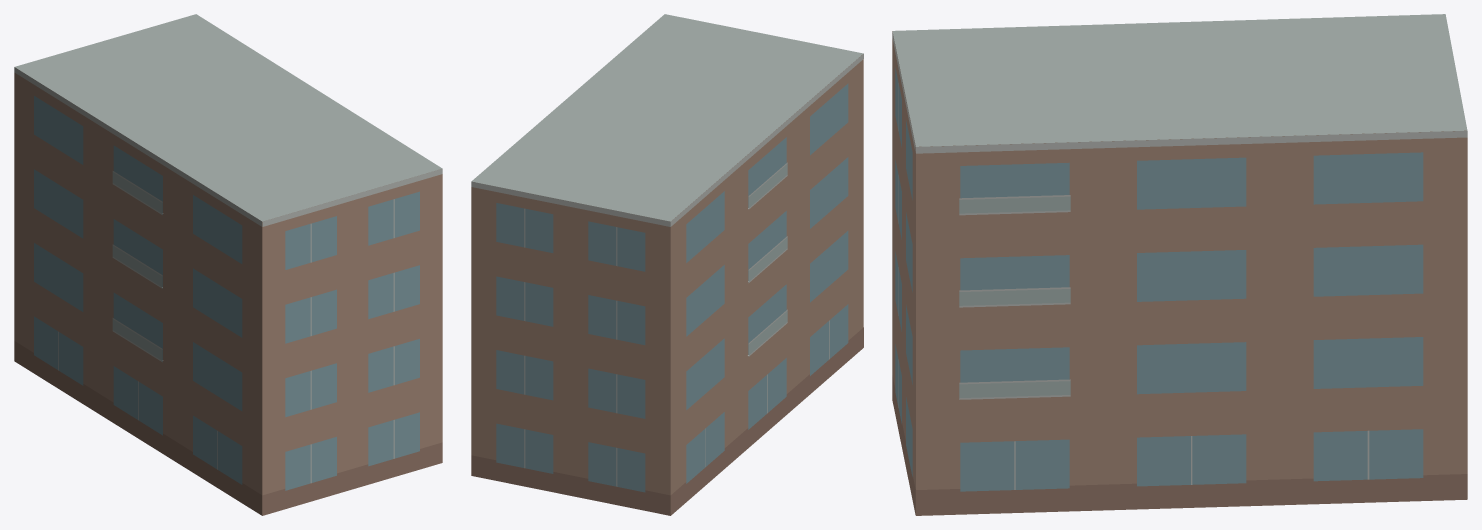
The model's file is survey-upis-32628612.glb.
3 views of the same model, side by side, from view 1: azimuth 30°, elevation 25°; view 2: azimuth 150°, elevation 25°; view 3: azimuth 270°, elevation 25° (orthographic). The views are drawn at different scales.
Visible parts, largest first — view 1: survey-upis-32628612.tmp; view 2: survey-upis-32628612.tmp; view 3: survey-upis-32628612.tmp.
Part boxes in pixels (x1,y1,x2,y2): survey-upis-32628612.tmp: (14, 14, 442, 515); survey-upis-32628612.tmp: (471, 14, 863, 515); survey-upis-32628612.tmp: (892, 14, 1467, 515).
Bounding box in the file's own units: 10.2 × 13.2 × 18.65.
